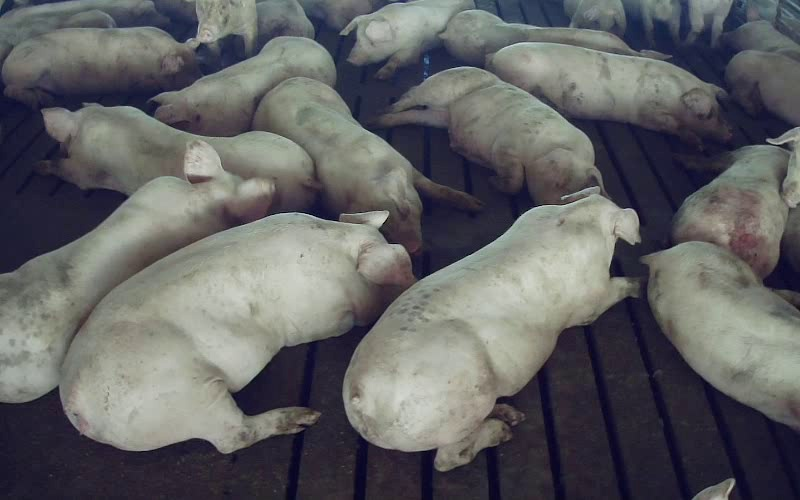pig: (60, 212, 413, 452), (343, 187, 639, 470), (0, 141, 273, 401), (252, 77, 480, 252), (375, 67, 602, 204), (37, 104, 318, 211), (643, 241, 799, 430), (486, 43, 731, 144), (152, 36, 335, 135), (2, 27, 200, 108), (672, 145, 788, 277), (439, 10, 666, 66)
